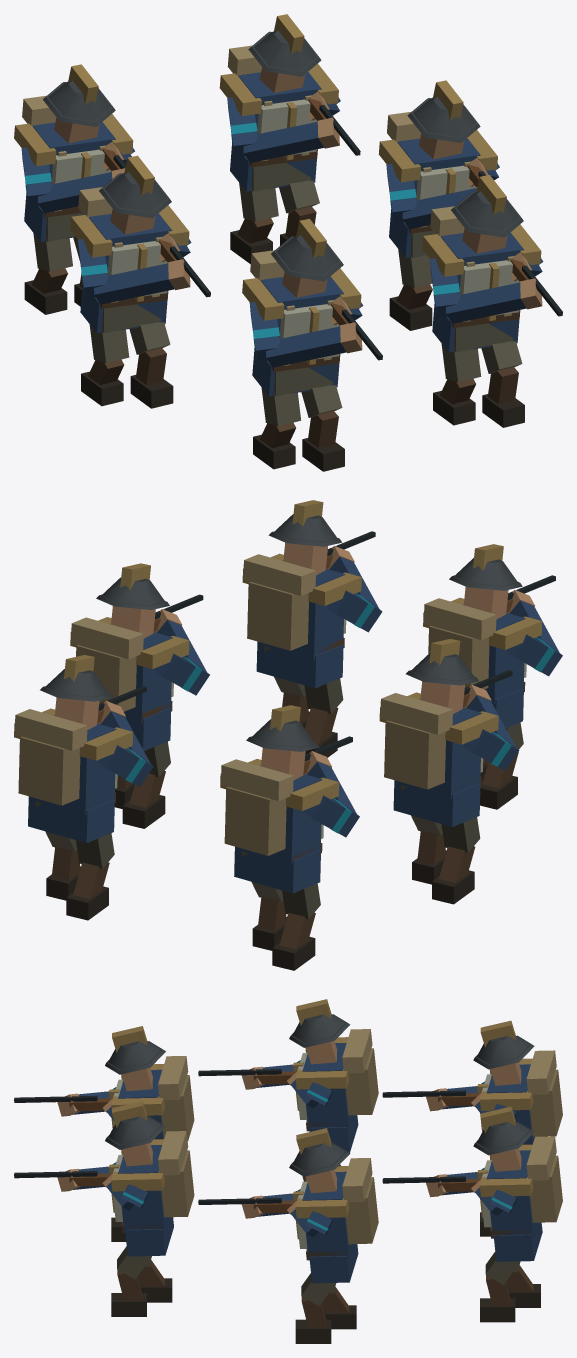
Rendered from guards.glb.
3 views of the same model, one above another, from view 1: azimuth 30°, elevation 25°; view 2: azimuth 150°, elevation 25°; view 3: azimuth 270°, elevation 25° (orthographic). The views are drawn at different scales.
Visible parts, largest first — view 1: body; view 2: body; view 3: body.
Boxes of the visible parts, x1,y1,x2,y2 form: body: [14, 14, 562, 471]; body: [14, 500, 562, 970]; body: [14, 999, 562, 1343].
Size of the model in its own units: 3.31 by 1.78 by 4.32.
